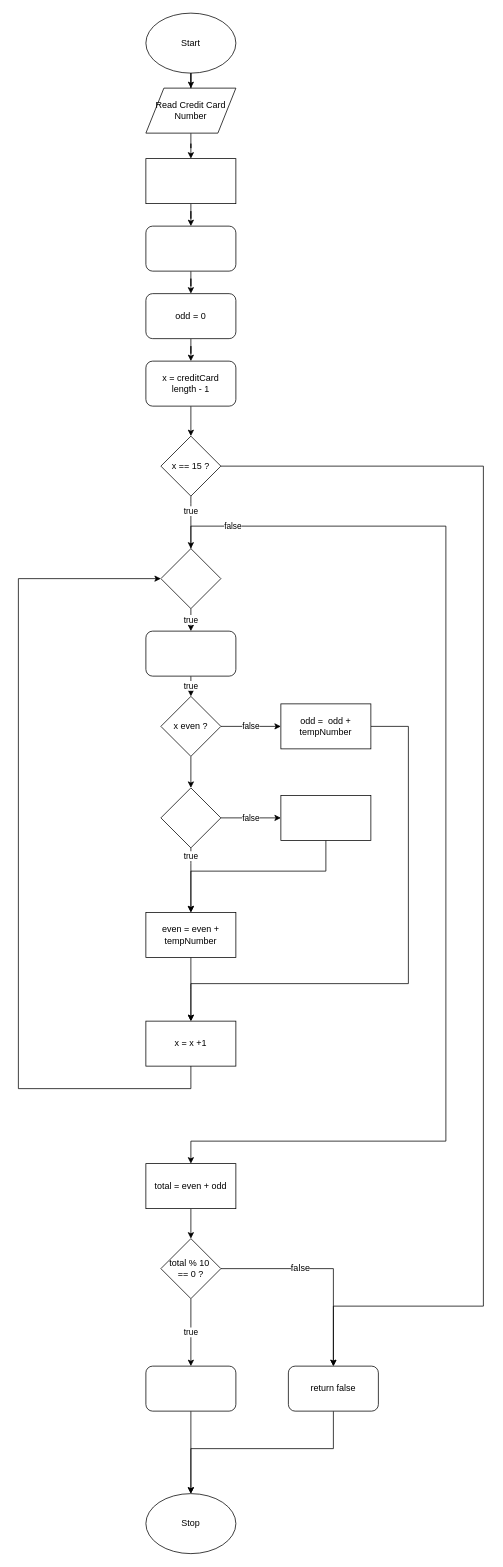
Image size: 503x1567. Some labels were removed from this diagram. Here are the shapes that lost their labels. From the top down, the centre of each, then its label:
At point (190, 181): "Convert Credit Card Number to a String".
At point (190, 248): "even = 0".
At point (190, 578): "x >= 0 ?".
At point (190, 653): "tempNumber = creditCard's x-th char".
At point (190, 817): "x <= 9 ?".
At point (325, 817): "tempNumber = tempNumber - 9".
At point (190, 1388): "return true".
